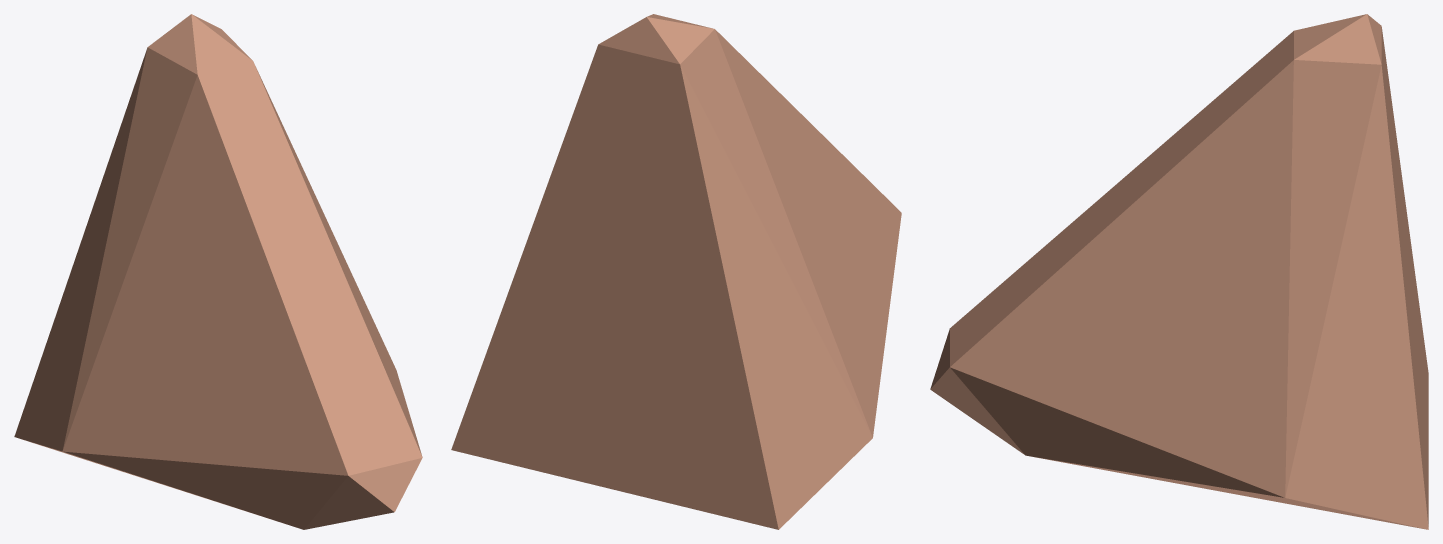
Rendered from nose_gn_pointed.glb.
3 views of the same model, side by side, from view 1: azimuth 30°, elevation 25°; view 2: azimuth 150°, elevation 25°; view 3: azimuth 270°, elevation 25° (orthographic). The views are drawn at different scales.
Visible parts, largest first — view 1: Snout; view 2: Snout; view 3: Snout.
Part boxes in pixels (<box>): Snout: <box>14,14,422,529</box>; Snout: <box>451,14,901,529</box>; Snout: <box>930,14,1428,529</box>.
Size of the model in its own units: 0.036 by 0.042 by 0.0433.
Materials: 1 (1 with a texture image).
